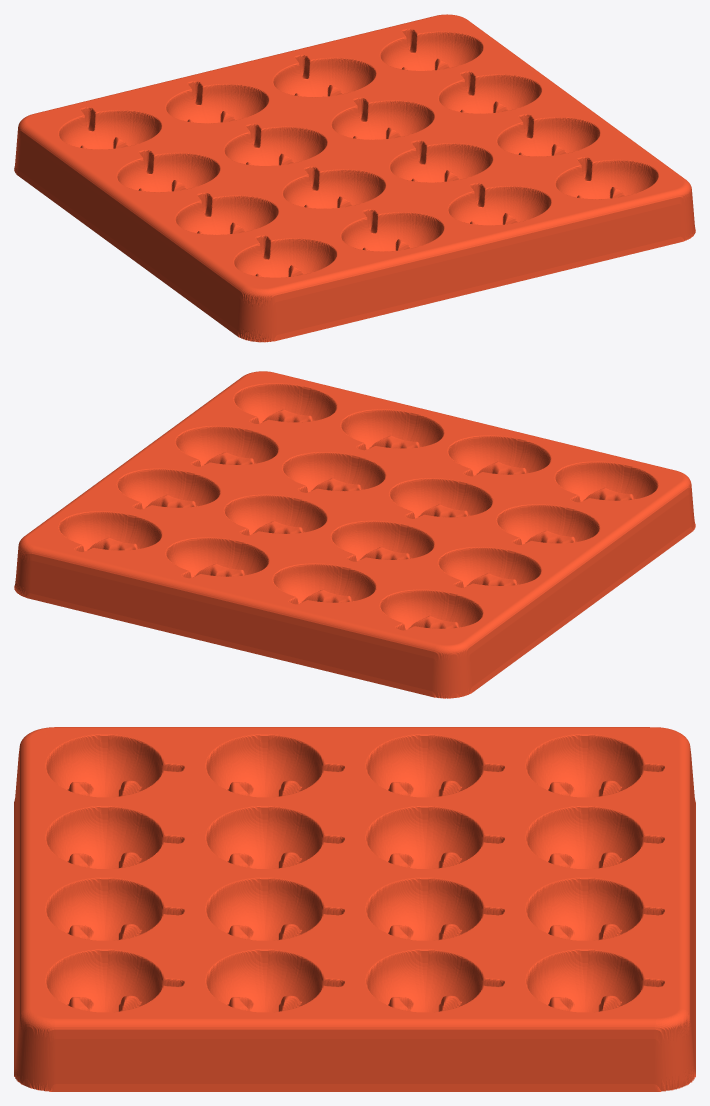
File: mold.glb
The picture shows the model from 3 angles, top to bottom: view 1: azimuth 30°, elevation 25°; view 2: azimuth 150°, elevation 25°; view 3: azimuth 270°, elevation 25°; orthographic projection. The views are drawn at different scales.
Visible parts, largest first — view 1: geometry_0; view 2: geometry_0; view 3: geometry_0.
Boxes of the visible parts, x1,y1,x2,y2 form: geometry_0: (14,14,695,342); geometry_0: (14,371,695,698); geometry_0: (14,727,695,1091).
Bounding box in the file's own units: 0.1569 × 0.0159 × 0.1486.
